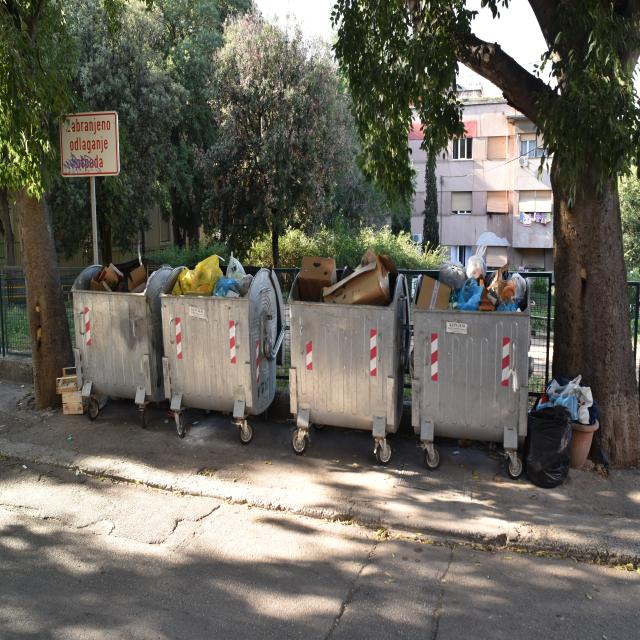entulho: (320, 246, 400, 307), (298, 255, 336, 302), (417, 274, 452, 310), (91, 265, 124, 293), (127, 265, 147, 291)
lixo domiciliar: (453, 245, 530, 308), (525, 400, 572, 486), (559, 398, 600, 476), (53, 366, 91, 418), (170, 254, 218, 295), (549, 376, 587, 407), (439, 260, 465, 292), (218, 274, 249, 300), (457, 278, 482, 309), (226, 255, 246, 281)
terra: (554, 194, 624, 385)
